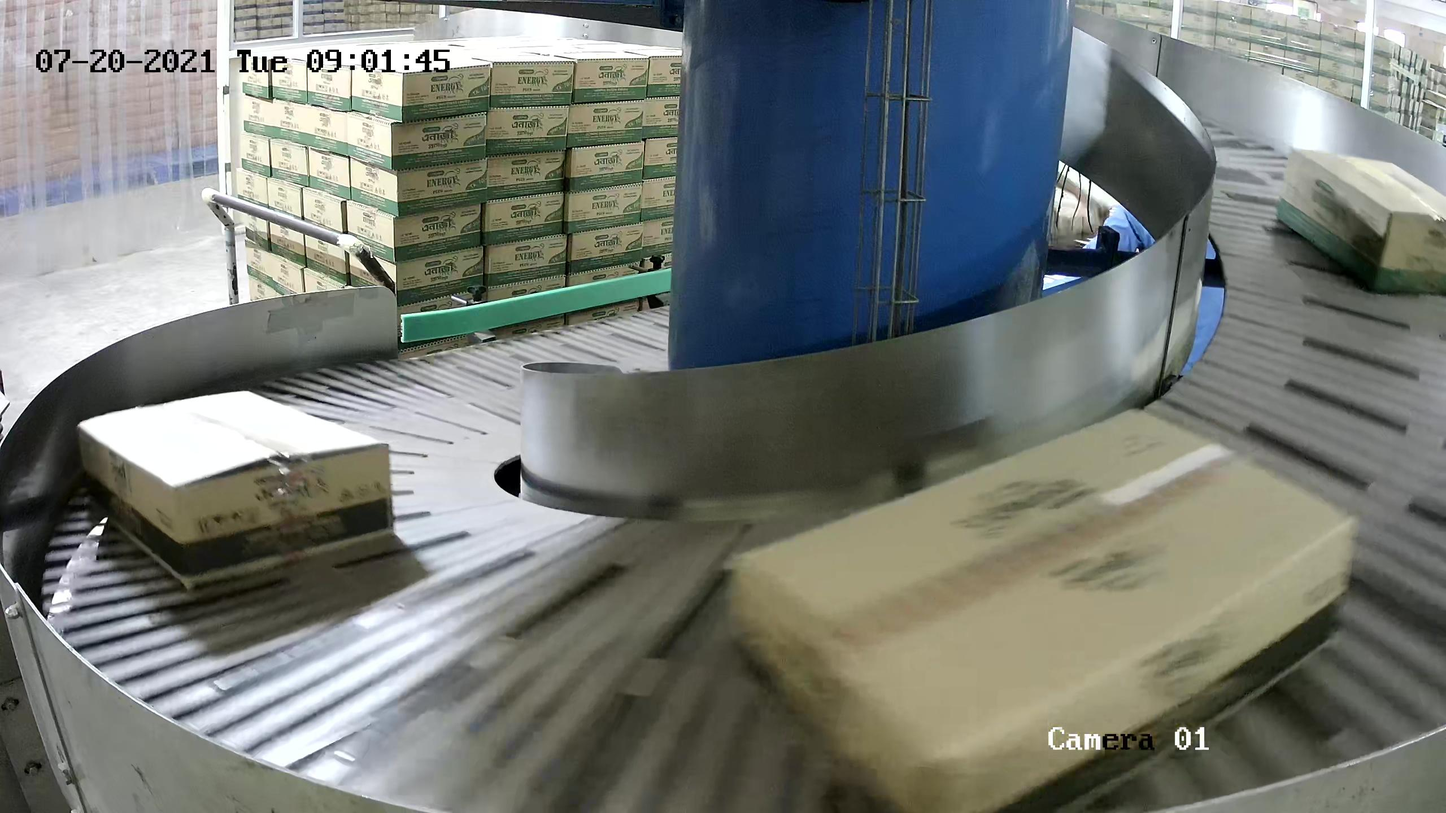Box: (719, 402, 1363, 813), (74, 388, 398, 591), (1275, 144, 1446, 295)
